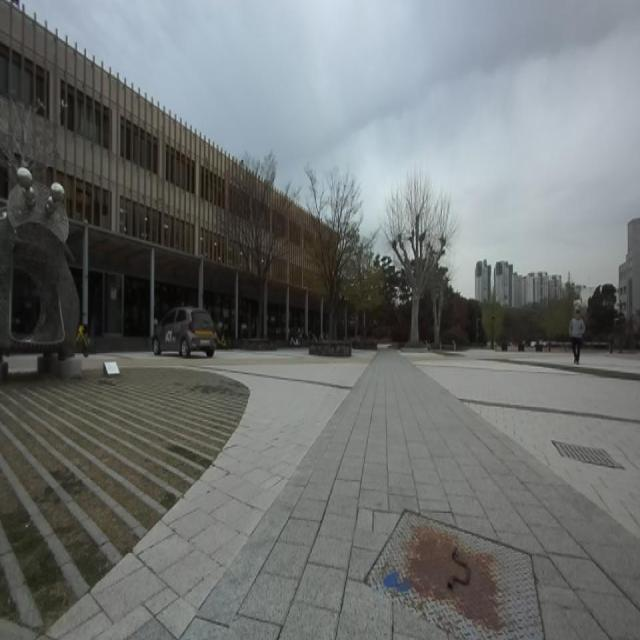sidewalk: (186, 352, 640, 639)
